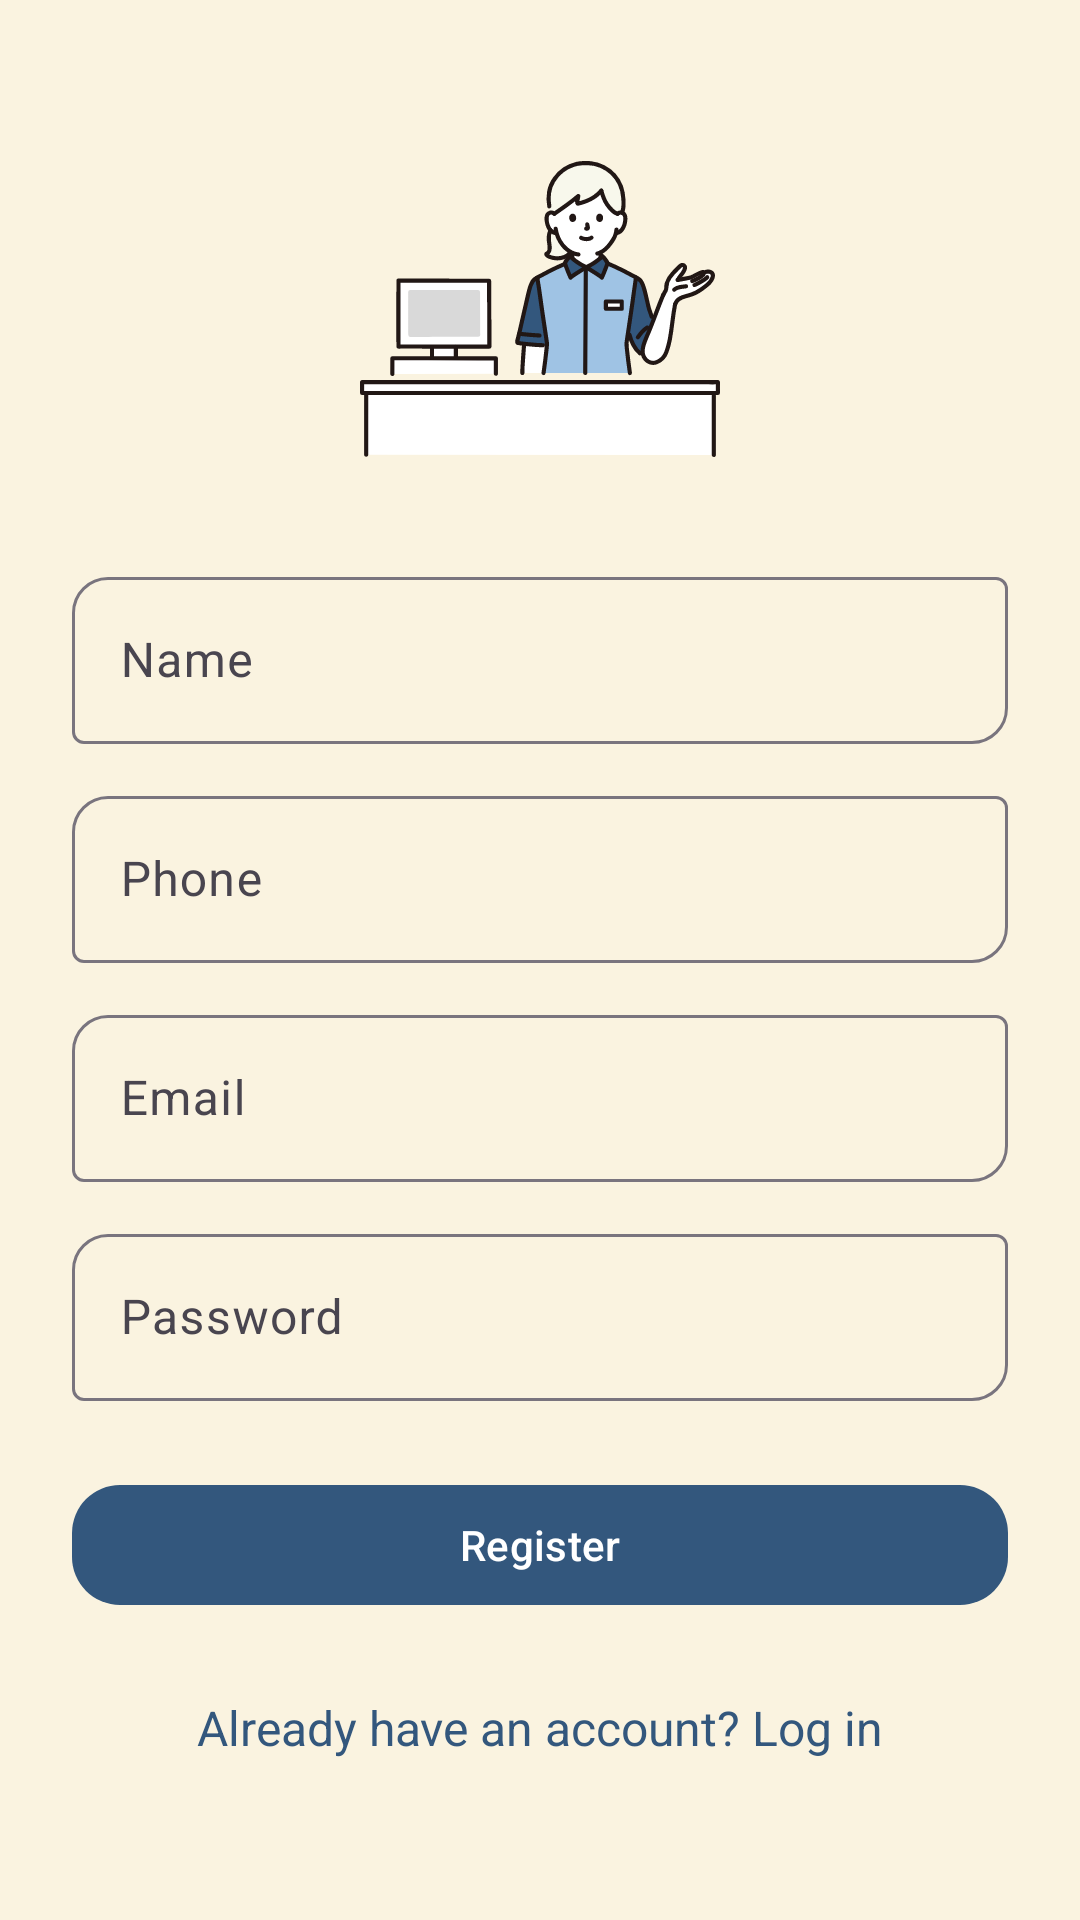

Icon bounding boxes for this 1080 × 1920 phone screenshot, format (x1, y1, x2, y2):
register: (360, 161, 720, 457)
